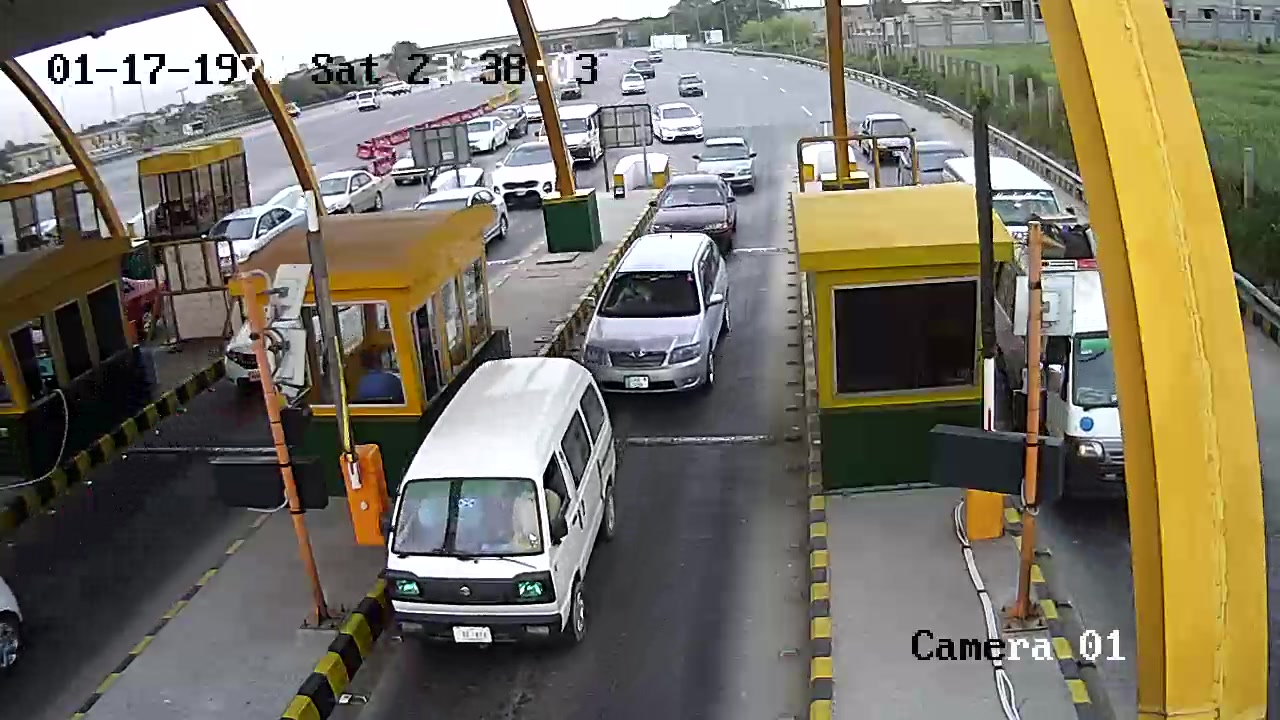F1: (381, 344, 617, 665), (578, 232, 737, 392)
